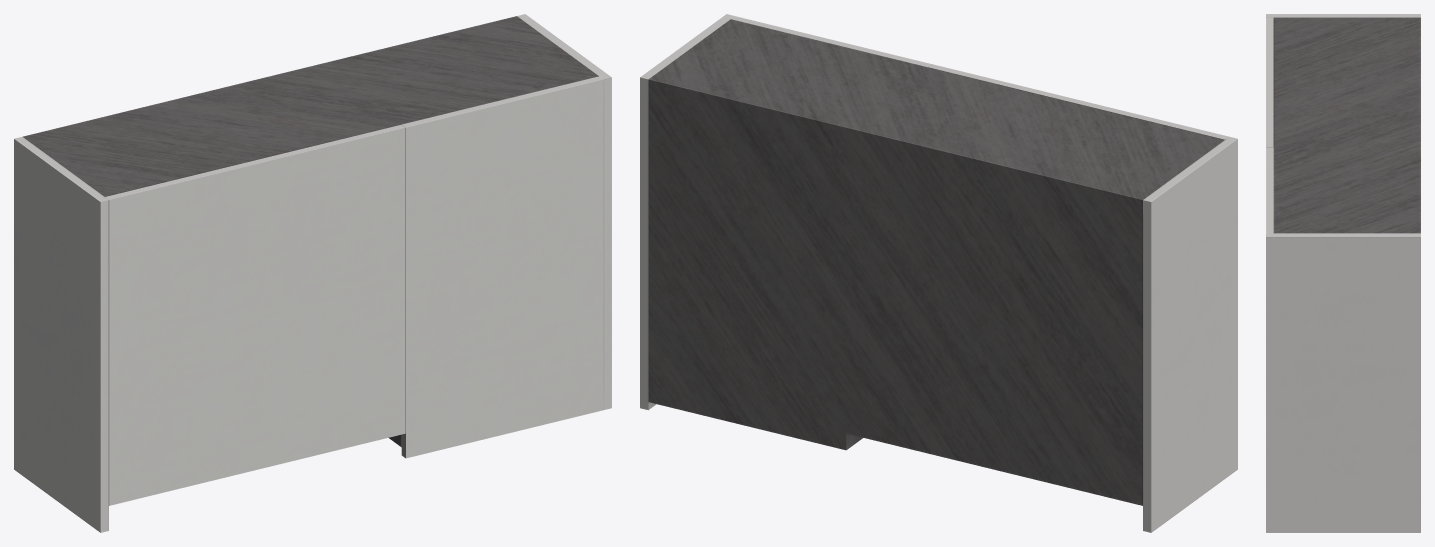
The model's file is OBJ_cab_04.fbx.
The picture shows the model from 3 angles, left to right: view 1: azimuth 30°, elevation 25°; view 2: azimuth 150°, elevation 25°; view 3: azimuth 270°, elevation 25°; orthographic projection. The views are drawn at different scales.
Parts seen in each view (by area): view 1: OBJ_cab_0401, OBJ_cab_0402; view 2: OBJ_cab_0401, OBJ_cab_0402; view 3: OBJ_cab_0401, OBJ_cab_0402.
Part boxes in pixels (x1,y1,x2,y2): OBJ_cab_0401: [14, 14, 611, 532]; OBJ_cab_0402: [401, 76, 603, 458]; OBJ_cab_0401: [640, 14, 1237, 532]; OBJ_cab_0402: [731, 16, 932, 67]; OBJ_cab_0401: [1266, 14, 1420, 532]; OBJ_cab_0402: [1266, 147, 1273, 233].
Bounding box in the file's own units: 1.04 × 0.6408 × 0.3042.
